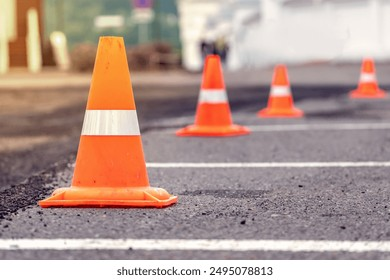Road_cone: (46, 33, 179, 209), (175, 50, 250, 137), (256, 65, 308, 120), (343, 59, 389, 101)
